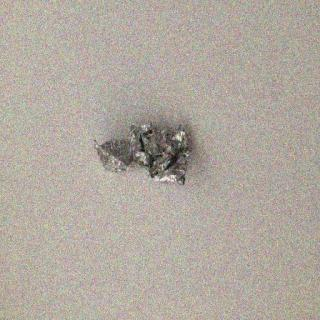METAL: (94, 121, 190, 185)
